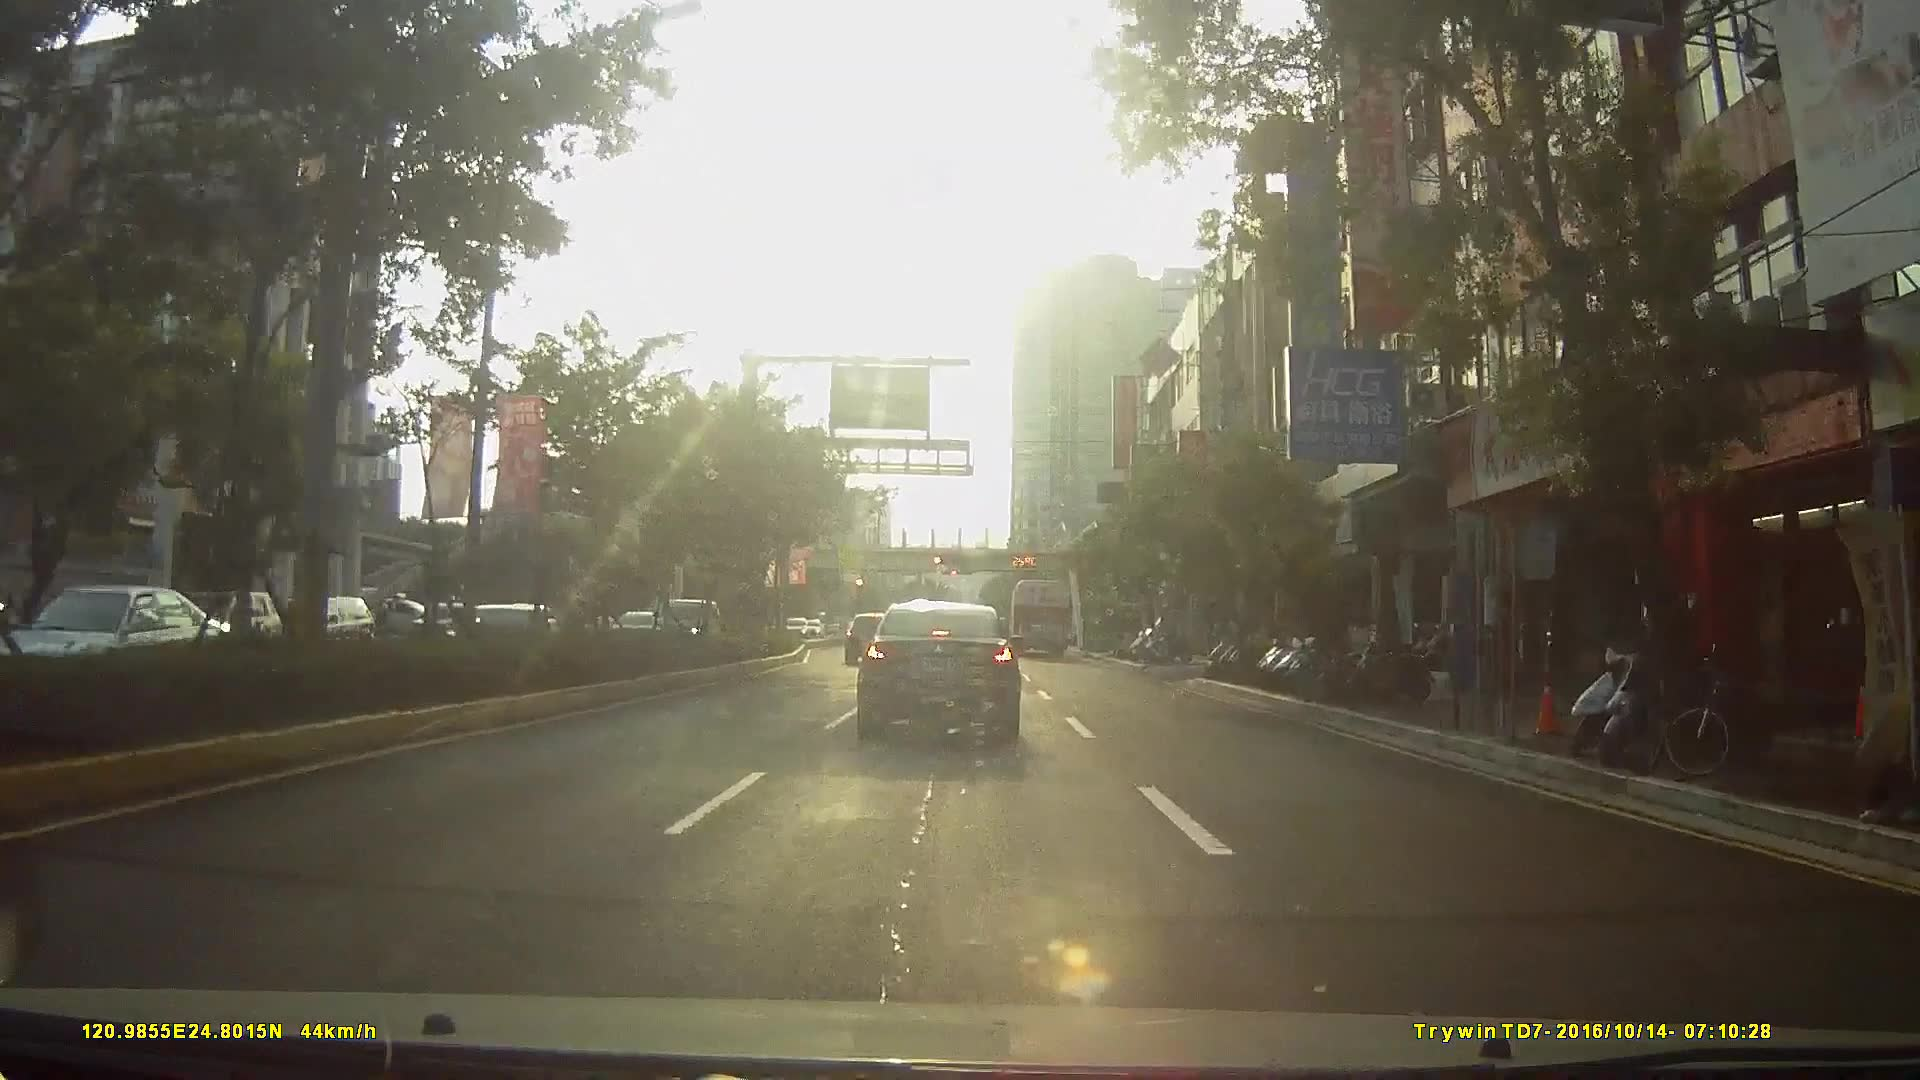vehicle: (1, 584, 241, 692), (856, 599, 1023, 744), (161, 587, 277, 658), (274, 592, 371, 654), (1006, 574, 1075, 655), (843, 611, 895, 663)
